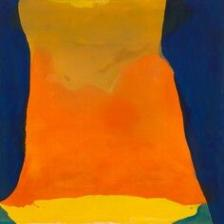orange: (1, 0, 207, 224)
